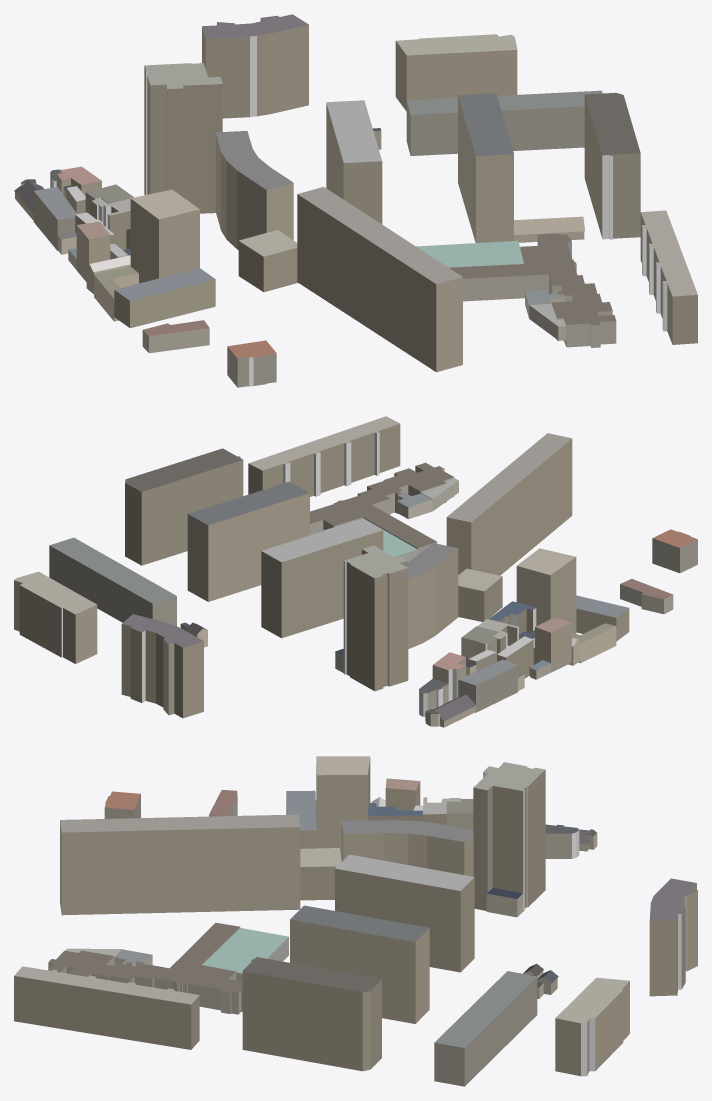
3 renders of one model, top to bottom at view 1: azimuth 30°, elevation 25°; view 2: azimuth 150°, elevation 25°; view 3: azimuth 270°, elevation 25°, orthographic. The views are drawn at different scales.
Visible parts, largest first — view 1: tuile; view 2: tuile; view 3: tuile.
Part boxes in pixels (x1,y1,x2,y2): tuile: (14,14,697,387); tuile: (14,416,697,727); tuile: (14,756,697,1086).
Size of the model in its own units: 259 by 58.26 by 281.
